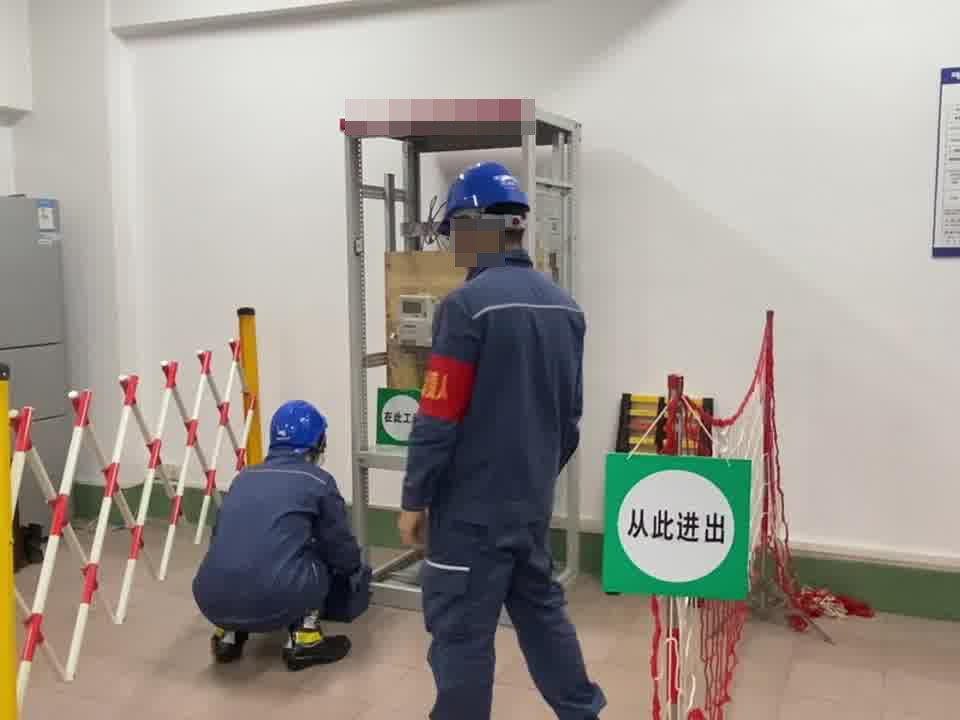badge: (418, 354, 477, 422)
downsuit: (418, 536, 608, 720)
fhalt: (265, 398, 329, 465)
halt: (615, 468, 739, 596), (441, 161, 534, 264)
hand: (400, 509, 432, 550)
inear: (452, 209, 484, 263)
intosign: (594, 445, 756, 609)
person: (399, 161, 612, 720), (185, 397, 369, 670)
shoe: (213, 605, 354, 667)
upsuit: (403, 248, 587, 528), (191, 460, 361, 627)
worksign: (373, 384, 425, 448)
